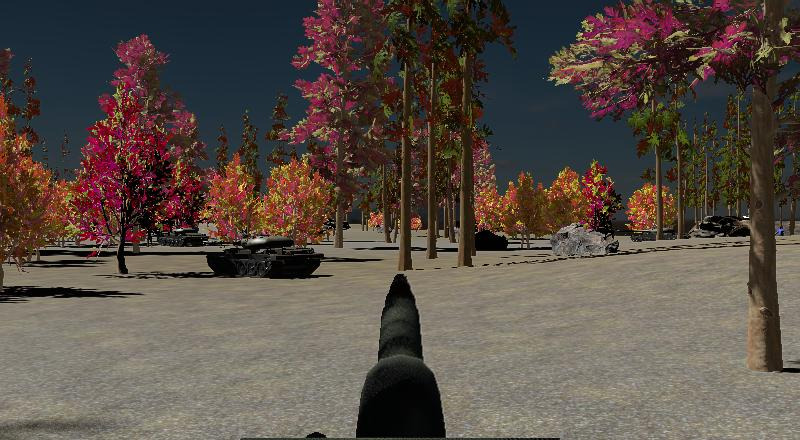Tank: (204, 232, 326, 280)
